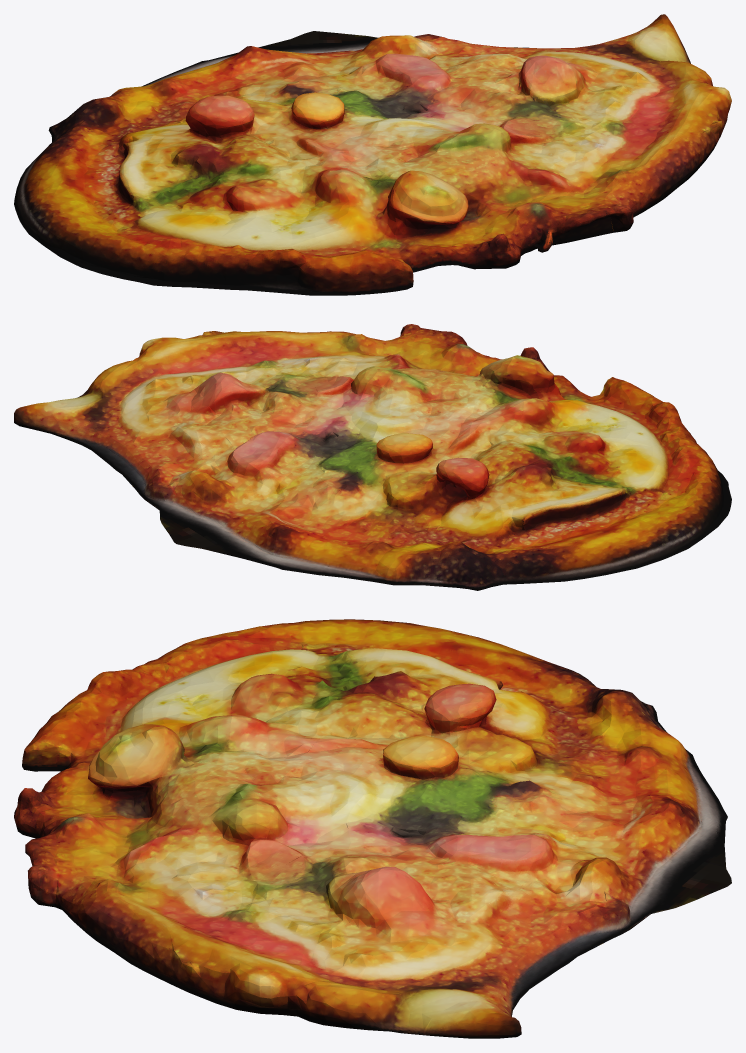
3 renders of one model, top to bottom at view 1: azimuth 30°, elevation 25°; view 2: azimuth 150°, elevation 25°; view 3: azimuth 270°, elevation 25°, orthographic. The views are drawn at different scales.
Parts seen in each view (by area): view 1: world; view 2: world; view 3: world.
Boxes of the visible parts, x1,y1,x2,y2 form: world: (14,14,731,295); world: (14,324,731,590); world: (14,619,731,1038).
Bounding box in the file's own units: 0.36 × 0.0323 × 0.2653.
Materials: 1 (1 with a texture image).
